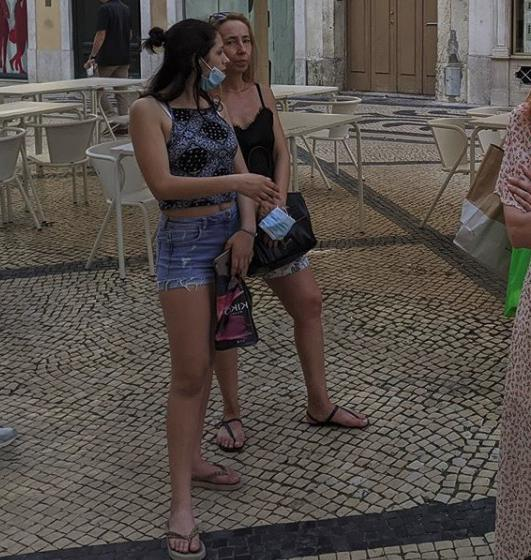mask_weared_incorrect: (205, 43, 227, 87)
without_mask: (225, 30, 259, 70)
